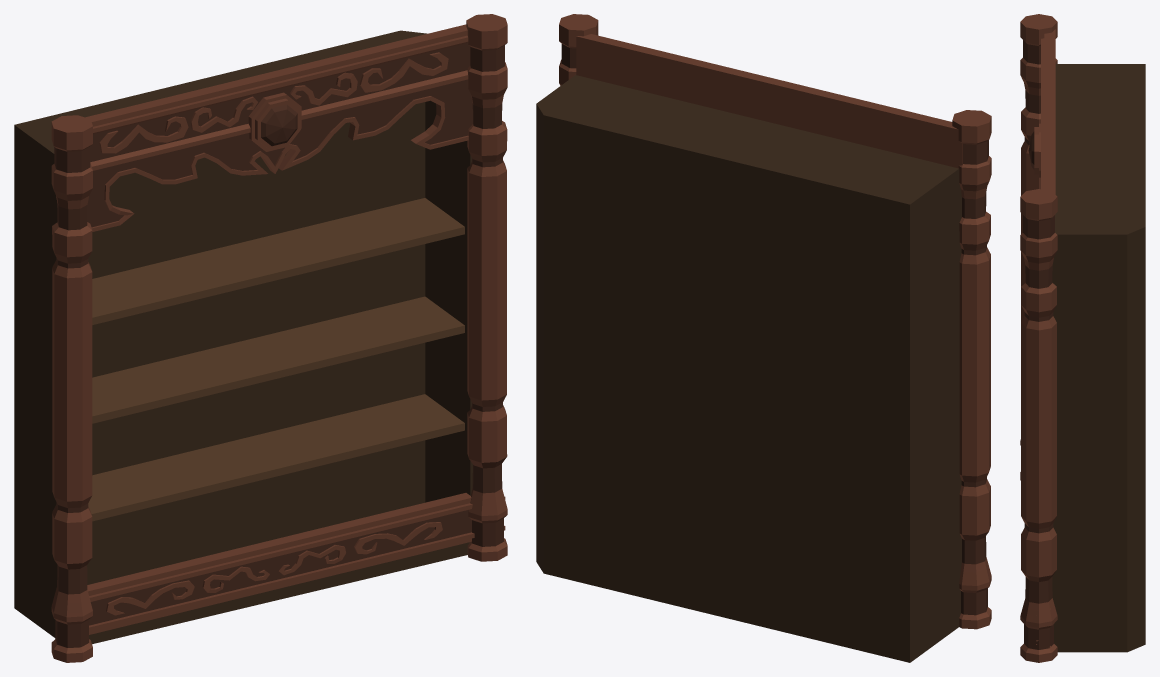
The model's file is SM_Bld_Bookshelf_Door_01_Door.fbx.
3 views of the same model, side by side, from view 1: azimuth 30°, elevation 25°; view 2: azimuth 150°, elevation 25°; view 3: azimuth 270°, elevation 25° (orthographic). The views are drawn at different scales.
Visible parts, largest first — view 1: SM_Bld_Bookshelf_Door_01_Door; view 2: SM_Bld_Bookshelf_Door_01_Door; view 3: SM_Bld_Bookshelf_Door_01_Door.
Part boxes in pixels (x1,y1,x2,y2): SM_Bld_Bookshelf_Door_01_Door: [14, 14, 507, 662]; SM_Bld_Bookshelf_Door_01_Door: [536, 14, 991, 662]; SM_Bld_Bookshelf_Door_01_Door: [1020, 14, 1145, 662].
Bounding box in the file's own units: 2681 × 3006 × 743.
Materials: 1 (1 with a texture image).
